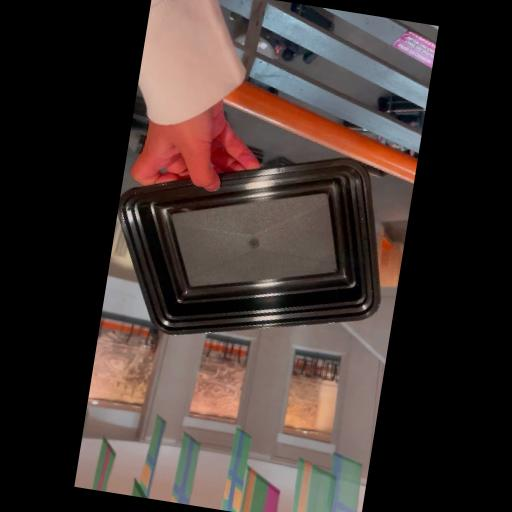rigid_plastic_container: (106, 127, 402, 384)
